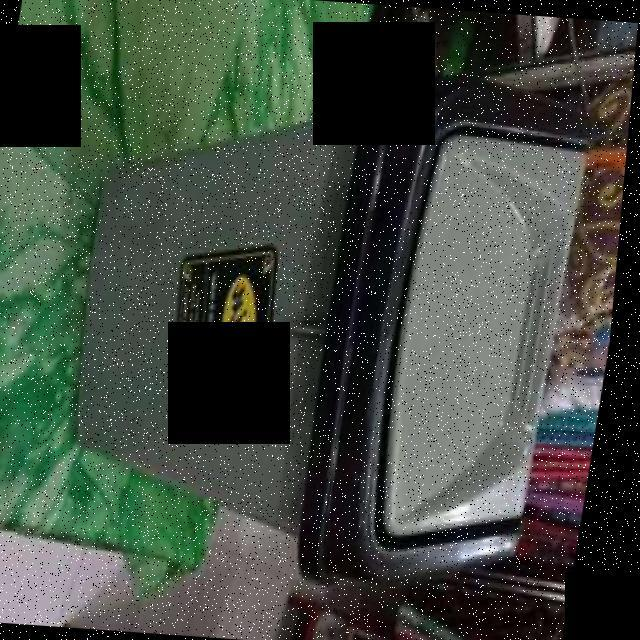bin: (25, 41, 607, 611)
